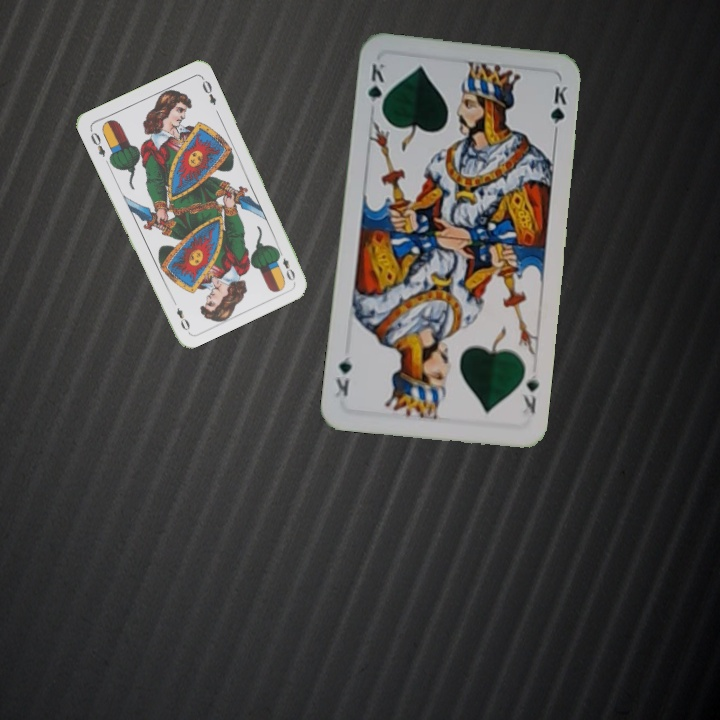EO: (274, 245, 298, 284), (86, 125, 108, 159)
GK: (363, 59, 387, 117), (518, 371, 541, 417)
